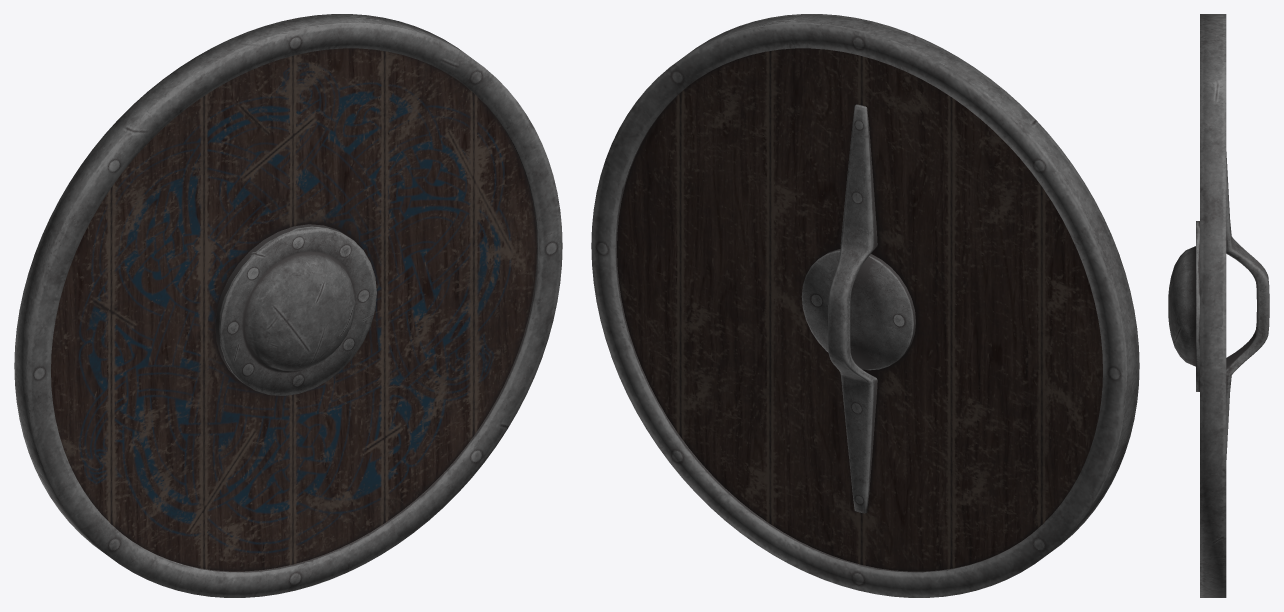
The model's file is shield.fbx.
The picture shows the model from 3 angles, left to right: view 1: azimuth 30°, elevation 25°; view 2: azimuth 150°, elevation 25°; view 3: azimuth 270°, elevation 25°; orthographic projection. The views are drawn at different scales.
Visible parts, largest first — view 1: Shield; view 2: Shield; view 3: Shield.
Part boxes in pixels (x1,y1,x2,y2): Shield: (14, 14, 562, 597); Shield: (591, 14, 1139, 597); Shield: (1168, 14, 1269, 597).
Bounding box in the file's own units: 50.14 × 50.14 × 8.7.
